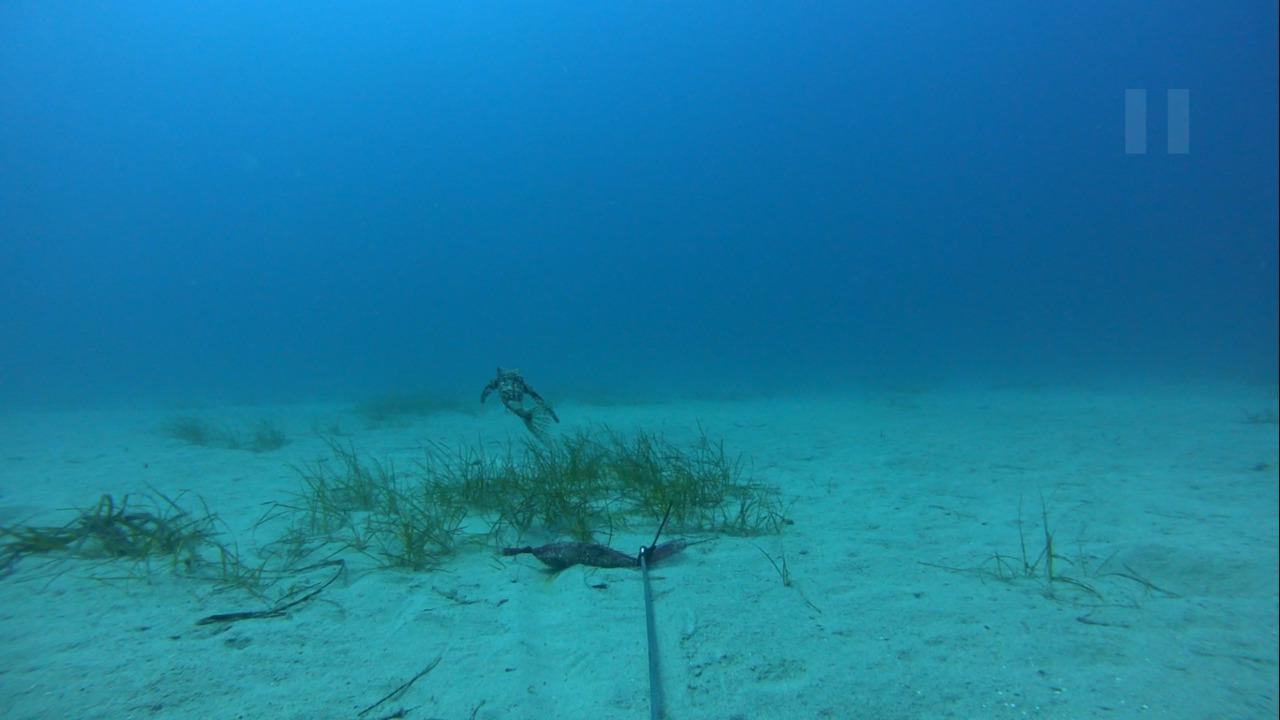dactylopterus: (462, 358, 560, 448)
